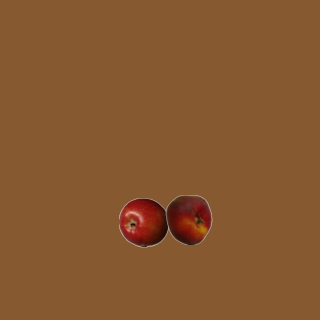Apple Braeburn: (118, 197, 168, 247)
Nectarine Flat: (163, 194, 213, 244)
